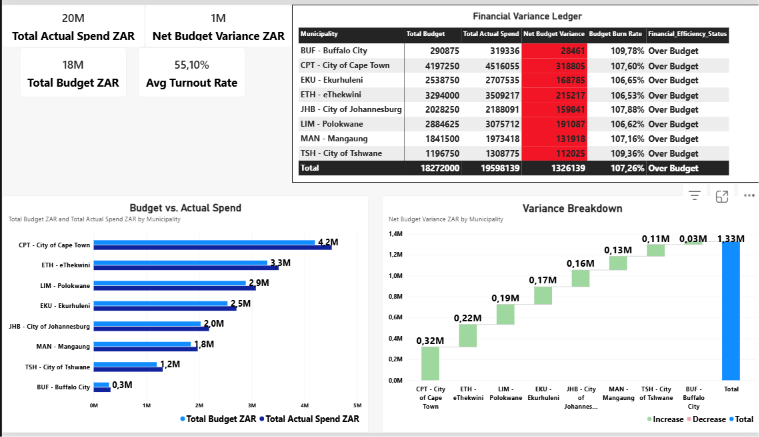

The page's visual inventory and layout, read from the dashboard file:
{"tool":"powerbi","page":{"name":"Financial Execution & Budget Variance","canvas":[1920,1080],"ordinal":0},"visuals":[{"type":"card","fields":{"Values":["df_ops.Total Budget ZAR"]},"box":[44.4,108.1,268.9,124.7],"z":0},{"type":"card","fields":{"Values":["df_ops.Total Actual Spend ZAR"]},"box":[0,0,360.4,108.1],"z":1000},{"type":"card","fields":{"Values":["df_ops.Net Budget Variance ZAR"]},"box":[360.4,0,371.4,108.1],"z":2000},{"type":"card","fields":{"Values":["df_ops.Avg Turnout Rate"]},"box":[343.7,108.1,271.6,124.7],"z":3000},{"type":"waterfallChart","title":"Variance Breakdown","fields":{"Category":["df_ops.Municipality"],"Y":["df_ops.Net Budget Variance ZAR"]},"box":[959.1,482.3,961.9,598.7],"z":4000},{"type":"pivotTable","title":"Financial Variance Ledger","fields":{"Rows":["df_ops.Municipality"],"Values":["df_ops.Total Budget ZAR","df_ops.Total Actual Spend ZAR","df_ops.Net Budget Variance ZAR","df_ops.Budget Burn Rate","Min(df_ops.Financial_Efficiency_Status)"]},"box":[731.8,0,1189.2,449.1],"z":5000},{"type":"clusteredBarChart","title":"Budget vs. Actual Spend ","fields":{"Category":["df_ops.Municipality"],"Y":["df_ops.Total Budget ZAR","df_ops.Total Actual Spend ZAR"]},"box":[0,482.3,925.8,598.7],"z":6000}]}

Visuals, with their boxes in screenshot pixels (x1, y1, x2, y2), scaled from the page's 1920x1080 canvas onto the 759x437 screenshot:
card - df_ops.Total Budget ZAR: rect(18, 44, 124, 94)
card - df_ops.Total Actual Spend ZAR: rect(0, 0, 142, 44)
card - df_ops.Net Budget Variance ZAR: rect(142, 0, 289, 44)
card - df_ops.Avg Turnout Rate: rect(136, 44, 243, 94)
"Variance Breakdown" waterfallChart: rect(379, 195, 758, 436)
"Financial Variance Ledger" pivotTable: rect(289, 0, 758, 182)
"Budget vs. Actual Spend " clusteredBarChart: rect(0, 195, 366, 436)
